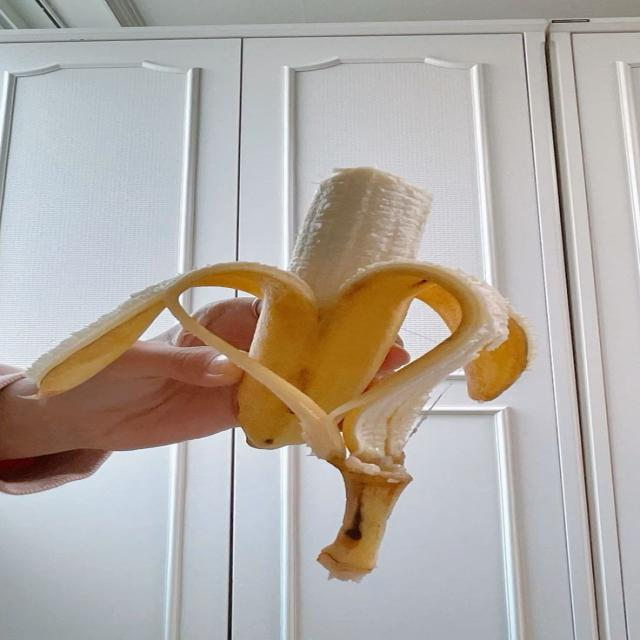banana: (28, 168, 528, 579)
